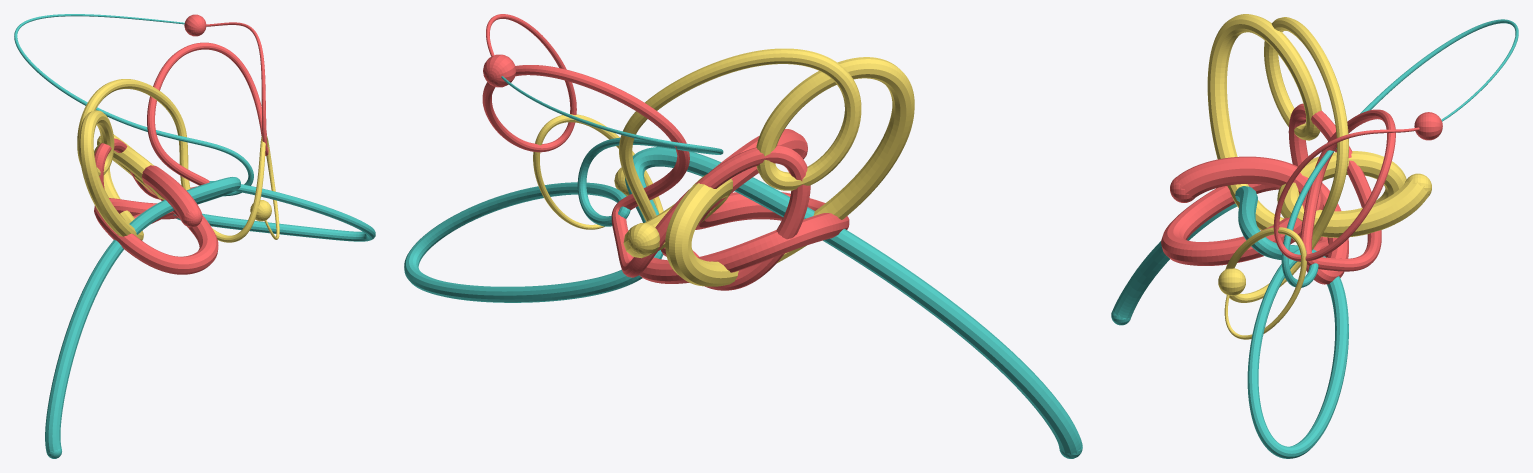
File: trajectory_mesh.obj
3 renders of one model, left to right at view 1: azimuth 30°, elevation 25°; view 2: azimuth 150°, elevation 25°; view 3: azimuth 270°, elevation 25°, orthographic. The views are drawn at different scales.
Parts seen in each view (by area): view 1: trajectory_2_cyan, trajectory_1_red, trajectory_3_yellow, end_1_red; view 2: trajectory_3_yellow, trajectory_2_cyan, trajectory_1_red, end_1_red, start_3_yellow; view 3: trajectory_3_yellow, trajectory_1_red, trajectory_2_cyan, end_1_red, end_3_yellow.
Part boxes in pixels (<box>): trajectory_2_cyan: <box>14,14,375,452</box>; trajectory_1_red: <box>94,22,268,274</box>; trajectory_3_yellow: <box>77,79,279,242</box>; end_1_red: <box>184,14,206,36</box>; trajectory_3_yellow: <box>533,48,914,286</box>; trajectory_2_cyan: <box>404,76,1082,455</box>; trajectory_1_red: <box>482,14,849,290</box>; end_1_red: <box>483,54,516,87</box>; start_3_yellow: <box>627,223,659,254</box>; trajectory_3_yellow: <box>1207,14,1429,339</box>; trajectory_1_red: <box>1161,103,1419,284</box>; trajectory_2_cyan: <box>1112,19,1518,458</box>; end_1_red: <box>1414,112,1442,140</box>; end_3_yellow: <box>1218,268,1245,295</box>.
Bounding box in the file's own units: 202 × 147 × 143.
